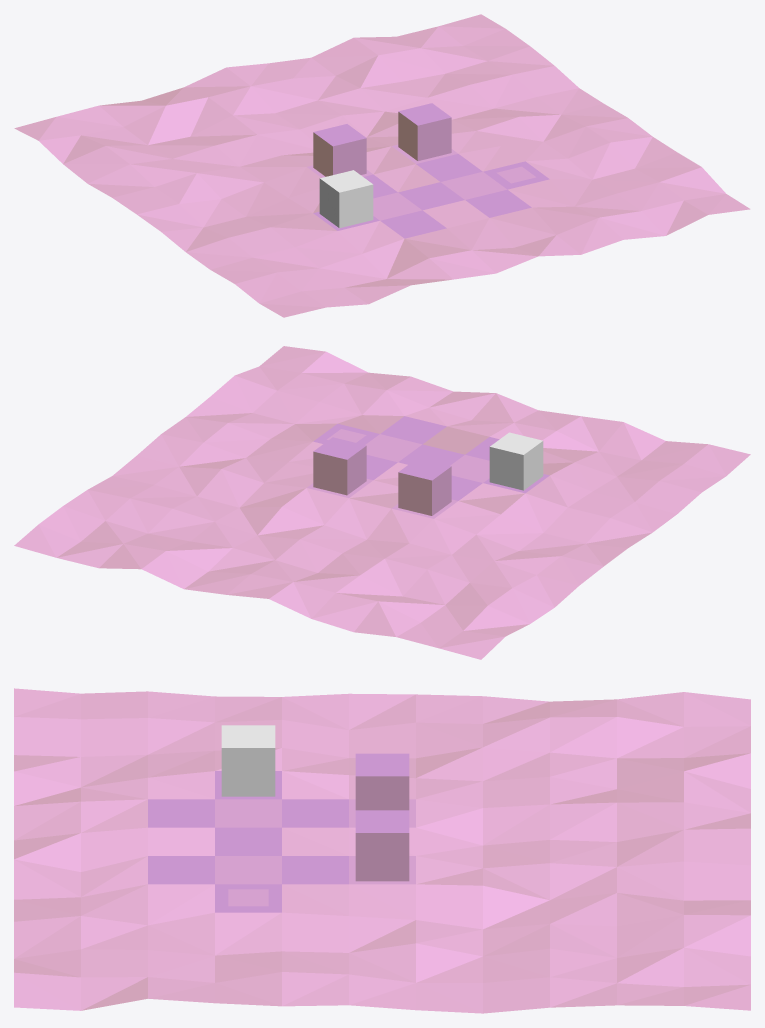
Rendered from Level98.dae.
3 renders of one model, top to bottom at view 1: azimuth 30°, elevation 25°; view 2: azimuth 150°, elevation 25°; view 3: azimuth 270°, elevation 25°, orthographic. The views are drawn at different scales.
Parts seen in each view (by area): view 1: surface, Blocky, Enemy1, Enemy0; view 2: surface, Blocky, Enemy1, Enemy0; view 3: surface, Blocky, Enemy1, Enemy0.
Part boxes in pixels (bbox=[...]): surface: bbox=[14, 14, 750, 317]; Blocky: bbox=[319, 170, 373, 228]; Enemy1: bbox=[398, 103, 451, 160]; Enemy0: bbox=[313, 124, 366, 176]; surface: bbox=[14, 346, 750, 659]; Blocky: bbox=[489, 432, 543, 490]; Enemy1: bbox=[313, 437, 366, 495]; Enemy0: bbox=[398, 458, 451, 515]; surface: bbox=[14, 688, 750, 1013]; Blocky: bbox=[221, 725, 275, 796]; Enemy1: bbox=[355, 810, 409, 881]; Enemy0: bbox=[355, 753, 409, 810].
Bounding box in the file's own units: 11 × 11 × 1.1.
